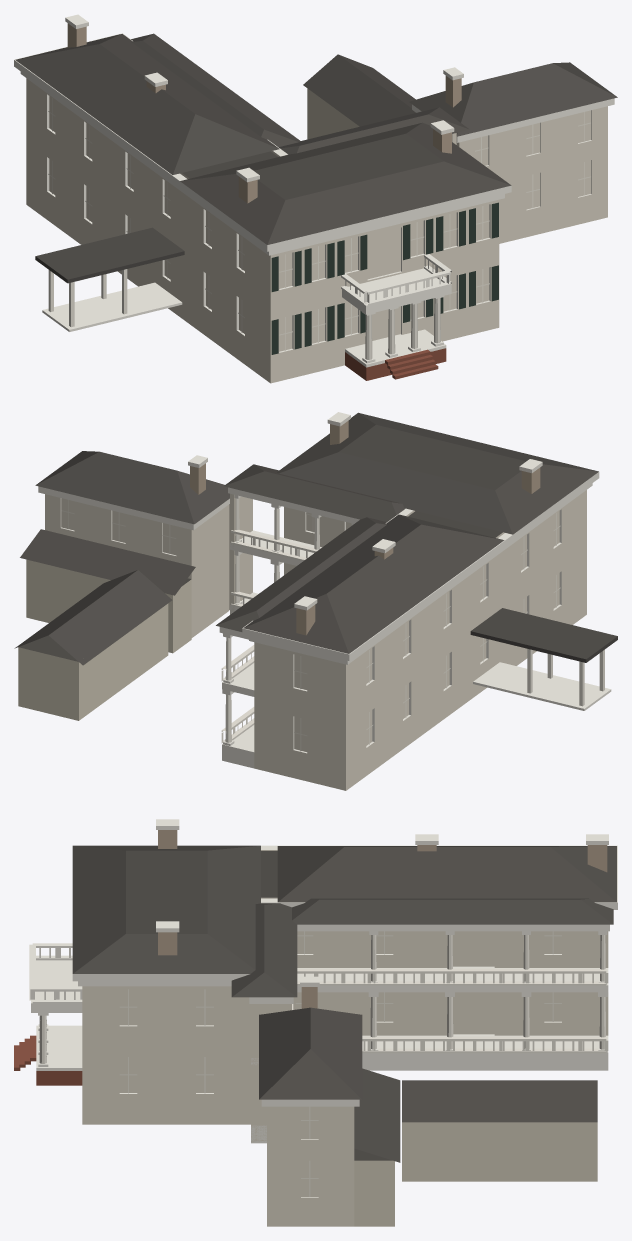
File: fowler-house-1913.glb
3 views of the same model, one above another, from view 1: azimuth 30°, elevation 25°; view 2: azimuth 150°, elevation 25°; view 3: azimuth 270°, elevation 25° (orthographic). The views are drawn at different scales.
Parts seen in each view (by area): view 1: fowler_wall, fowler_roof, fowler_trim, fowler_shutter, fowler_wood, fowler_base, fowler_brick2, fowler_sash, fowler_board; view 2: fowler_roof, fowler_wall, fowler_trim, fowler_board, fowler_wood, fowler_brick2, fowler_sash; view 3: fowler_roof, fowler_wall, fowler_trim, fowler_board, fowler_wood, fowler_brick2, fowler_base, fowler_sash.
Boxes of the visible parts, bbox=[...] form: fowler_wall: bbox=[26, 78, 607, 383]; fowler_roof: bbox=[15, 33, 617, 283]; fowler_trim: bbox=[14, 14, 614, 367]; fowler_shutter: bbox=[271, 202, 498, 354]; fowler_wood: bbox=[48, 269, 440, 359]; fowler_base: bbox=[345, 348, 446, 380]; fowler_brick2: bbox=[67, 23, 461, 203]; fowler_sash: bbox=[48, 98, 591, 350]; fowler_board: bbox=[307, 88, 359, 139]; fowler_roof: bbox=[14, 412, 617, 665]; fowler_wall: bbox=[45, 490, 586, 790]; fowler_trim: bbox=[38, 412, 611, 768]; fowler_board: bbox=[18, 559, 191, 720]; fowler_wood: bbox=[221, 498, 604, 743]; fowler_brick2: bbox=[190, 420, 540, 635]; fowler_sash: bbox=[61, 500, 560, 751]; fowler_roof: bbox=[72, 845, 616, 1162]; fowler_wall: bbox=[82, 850, 608, 1226]; fowler_trim: bbox=[29, 819, 617, 1197]; fowler_board: bbox=[354, 1122, 597, 1226]; fowler_wood: bbox=[39, 935, 608, 1063]; fowler_brick2: bbox=[158, 830, 607, 1008]; fowler_base: bbox=[14, 1035, 82, 1085]; fowler_sash: bbox=[119, 931, 561, 1196].
Bounding box in the file's own units: 38.25 × 11.85 × 34.
